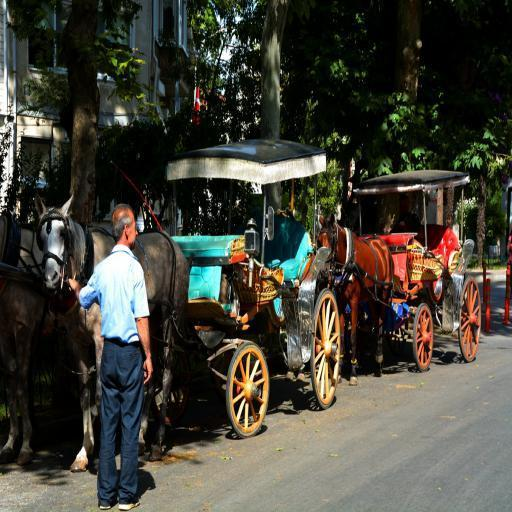horse: (35, 186, 190, 474), (0, 216, 98, 466), (316, 213, 395, 387)
